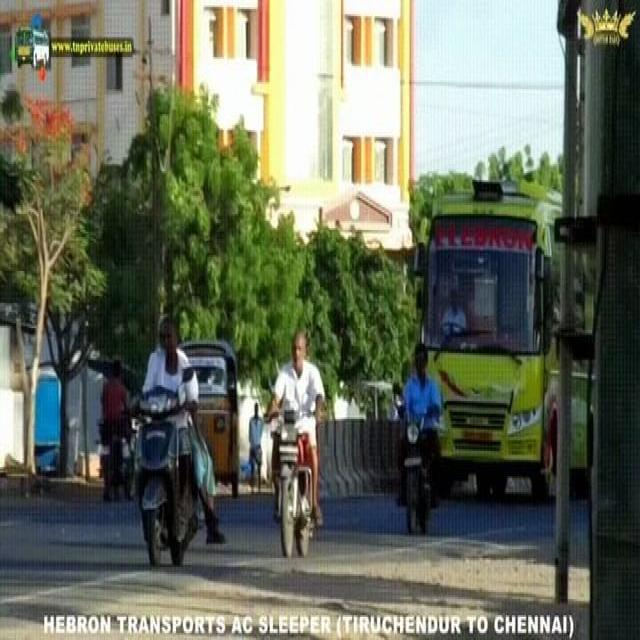Bus: (416, 178, 593, 488)
